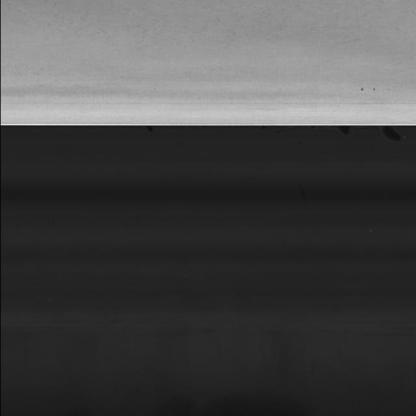inclusion: (357, 85, 392, 94)
silk_spot: (11, 0, 410, 51)
